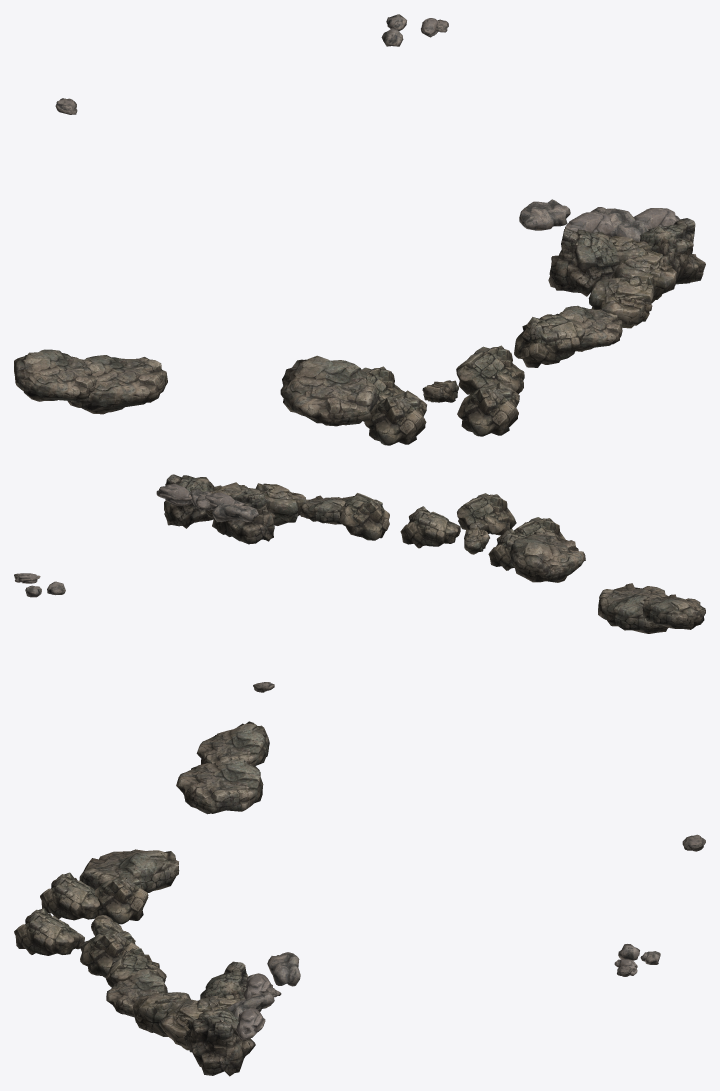
File: Rocks_gojuga.fbx
3 views of the same model, one above another, from view 1: azimuth 30°, elevation 25°; view 2: azimuth 150°, elevation 25°; view 3: azimuth 270°, elevation 25° (orthographic). The views are drawn at different scales.
Parts seen in each view (by area): view 1: Rock_I_01__3__1, Rock_I_01__2__1, Rock_I_01__1__2, Rock_D_01_2, Rock_F__2__2, Rock_F__3__2, Rock_F__4__1, Rock_G_01__1__3, Rock_D_01__1__3, Rock_F__1__3, Rock_I_01__4__1, Rock_G_01__2__2 (+7 smaller); view 2: Rock_I_01__3__1, Rock_I_01__2__1, Rock_D_01_2, Rock_F__2__2, Rock_F__3__2, Rock_I_01__1__2, Rock_F__1__3, Rock_D_01__1__3, Rock_G_01__1__3, Rock_I_01__4__1, Rock_F_3, Rock_A_01__1__1 (+3 smaller); view 3: Rock_I_01__2__1, Rock_D_01__1__3, Rock_I_01__3__1, Rock_I_01__1__2, Rock_F__3__2, Rock_F__4__1, Rock_F_3, Rock_F__1__3, Rock_I_01__4__1, Rock_G_01__1__3, Rock_G_01__2__2, Rock_F__2__2 (+4 smaller).
Boxes of the visible parts, left/top/right/bottom form: Rock_I_01__3__1: left=280, top=355, right=378, bottom=426; Rock_I_01__2__1: left=67, top=355, right=167, bottom=414; Rock_I_01__1__2: left=14, top=349, right=100, bottom=401; Rock_D_01_2: left=548, top=228, right=619, bottom=296; Rock_F__2__2: left=514, top=314, right=585, bottom=367; Rock_F__3__2: left=457, top=381, right=519, bottom=436; Rock_F__4__1: left=364, top=390, right=426, bottom=445; Rock_G_01__1__3: left=588, top=276, right=654, bottom=328; Rock_D_01__1__3: left=640, top=218, right=705, bottom=285; Rock_F__1__3: left=456, top=345, right=524, bottom=394; Rock_I_01__4__1: left=556, top=305, right=622, bottom=351; Rock_G_01__2__2: left=611, top=248, right=676, bottom=303; Rock_I_01__3__1: left=509, top=531, right=585, bottom=582; Rock_I_01__2__1: left=598, top=583, right=668, bottom=633; Rock_D_01_2: left=212, top=490, right=275, bottom=544; Rock_F__2__2: left=337, top=493, right=389, bottom=540; Rock_F__3__2: left=457, top=493, right=516, bottom=535; Rock_I_01__1__2: left=642, top=594, right=705, bottom=629; Rock_F__1__3: left=400, top=506, right=460, bottom=548; Rock_D_01__1__3: left=164, top=474, right=221, bottom=528; Rock_G_01__1__3: left=255, top=483, right=306, bottom=525; Rock_I_01__4__1: left=300, top=495, right=345, bottom=524; Rock_F_3: left=488, top=528, right=526, bottom=570; Rock_A_01__1__1: left=212, top=502, right=258, bottom=522; Rock_I_01__2__1: left=176, top=759, right=263, bottom=814; Rock_D_01__1__3: left=184, top=1008, right=255, bottom=1076; Rock_I_01__3__1: left=79, top=849, right=179, bottom=892; Rock_I_01__1__2: left=196, top=721, right=269, bottom=766; Rock_F__3__2: left=14, top=908, right=84, bottom=955; Rock_F__4__1: left=40, top=872, right=99, bottom=920; Rock_F_3: left=94, top=876, right=148, bottom=924; Rock_F__1__3: left=80, top=926, right=139, bottom=977; Rock_I_01__4__1: left=106, top=969, right=167, bottom=1017; Rock_G_01__1__3: left=133, top=992, right=190, bottom=1036; Rock_G_01__2__2: left=159, top=998, right=208, bottom=1050; Rock_F__2__2: left=105, top=948, right=166, bottom=987.
Size of the model in its own units: 7701 by 1278 by 7436.
